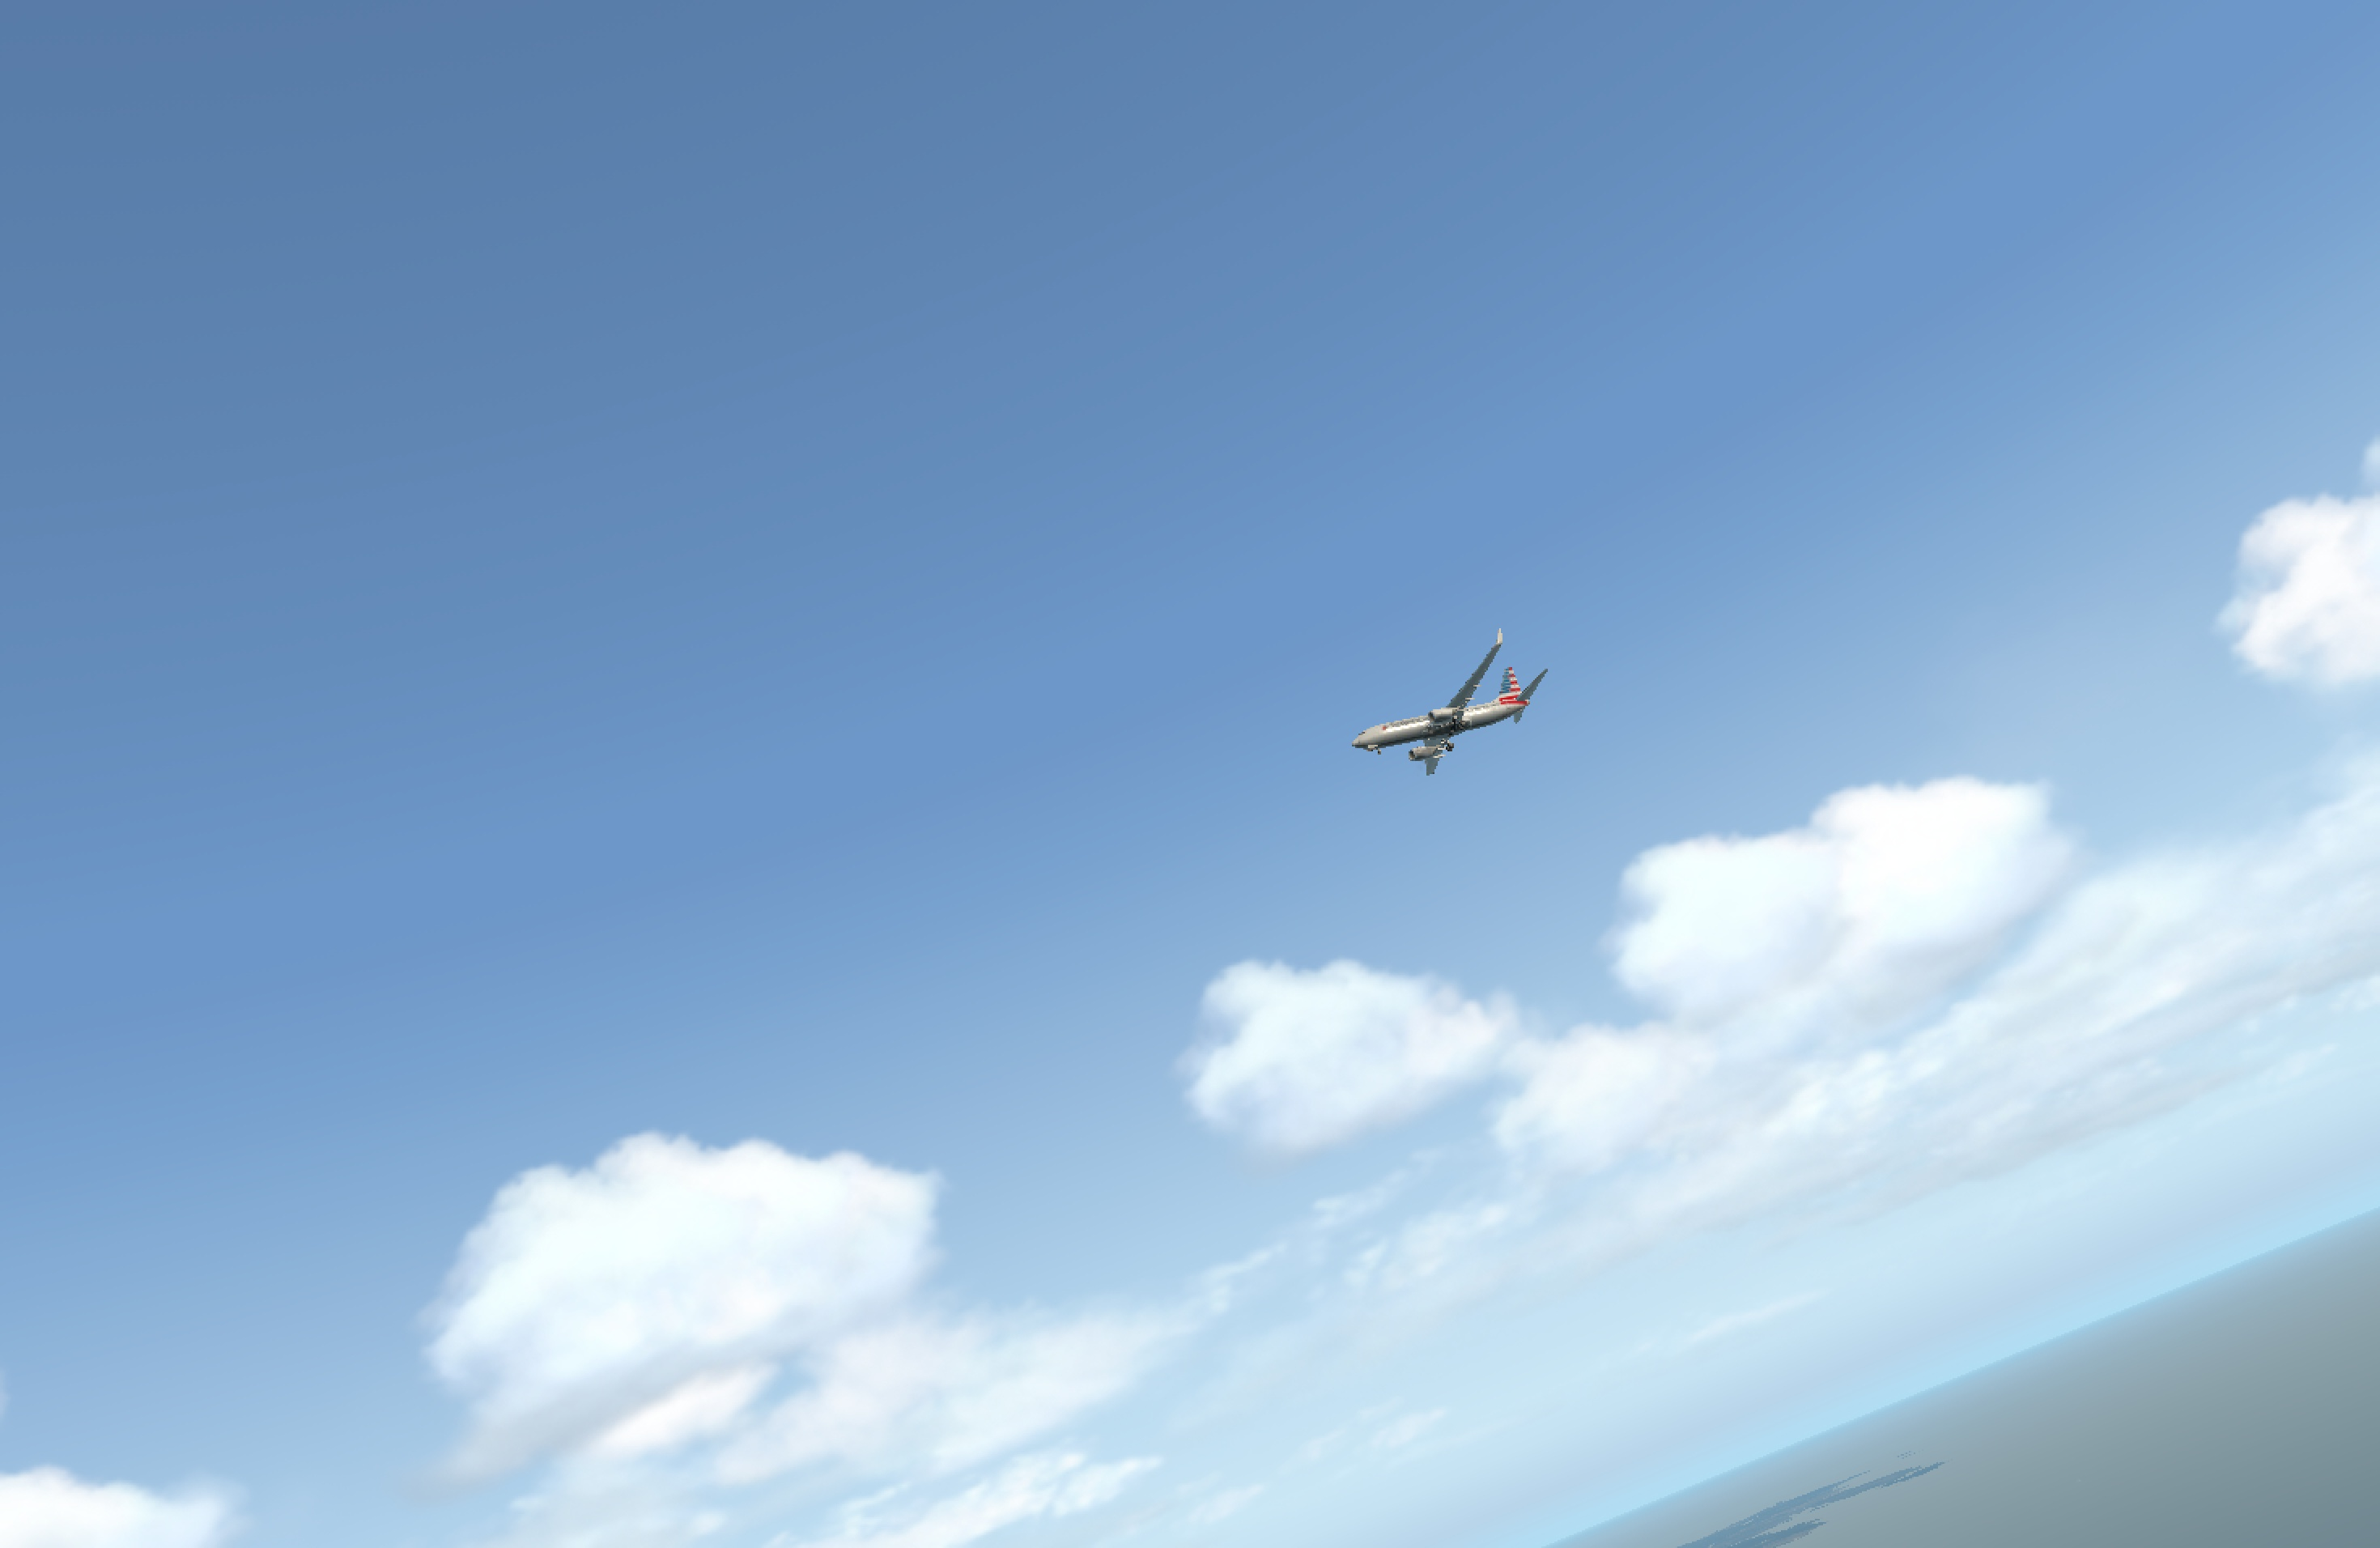aircraft: (1327, 684, 1558, 771)
